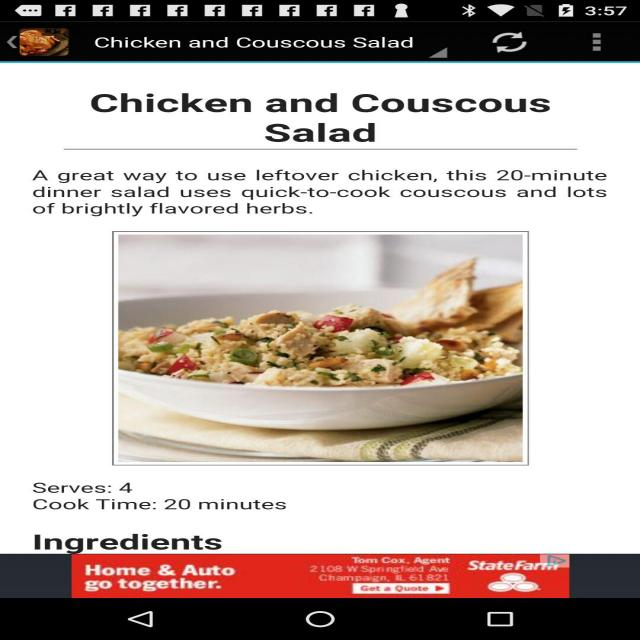text: (37, 71, 617, 564)
